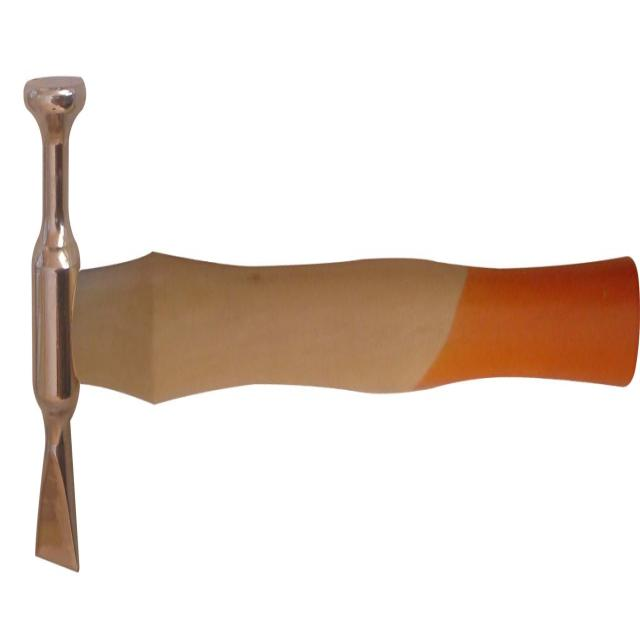hammer: (25, 76, 640, 569)
